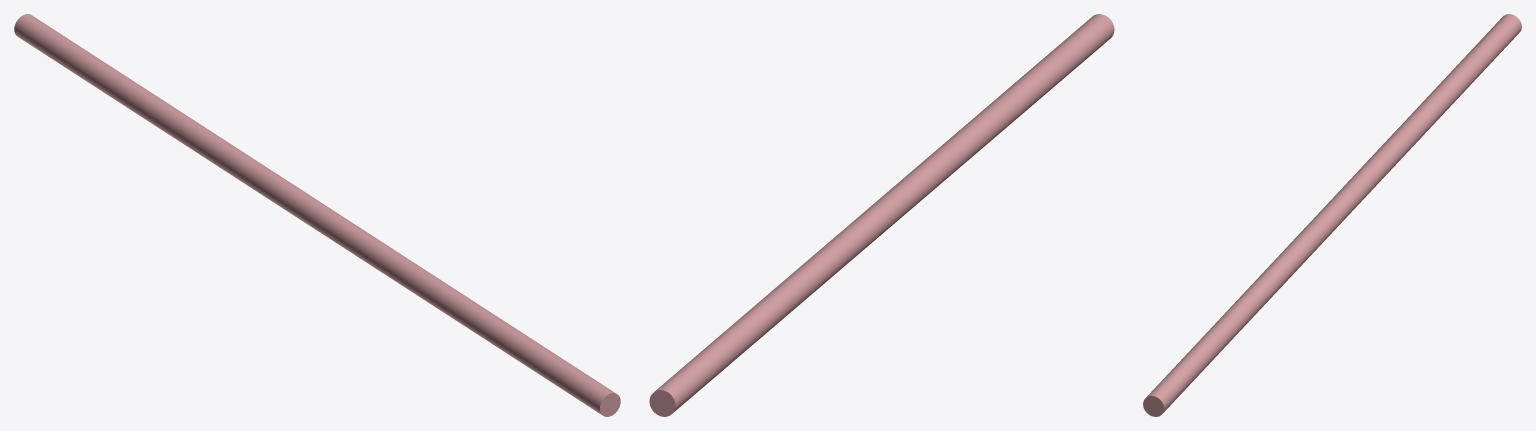
The model's file is fma58165_mm2183.glb.
3 views of the same model, side by side, from view 1: azimuth 30°, elevation 25°; view 2: azimuth 150°, elevation 25°; view 3: azimuth 330°, elevation 25° (orthographic). The views are drawn at different scales.
Parts seen in each view (by area): view 1: FMA58165_MM2183; view 2: FMA58165_MM2183; view 3: FMA58165_MM2183.
Boxes of the visible parts, x1,y1,x2,y2 form: FMA58165_MM2183: (14, 14, 620, 416); FMA58165_MM2183: (649, 14, 1114, 416); FMA58165_MM2183: (1143, 14, 1521, 416).
Size of the model in its own units: 0.00694 by 0.00374 by 0.0511.
